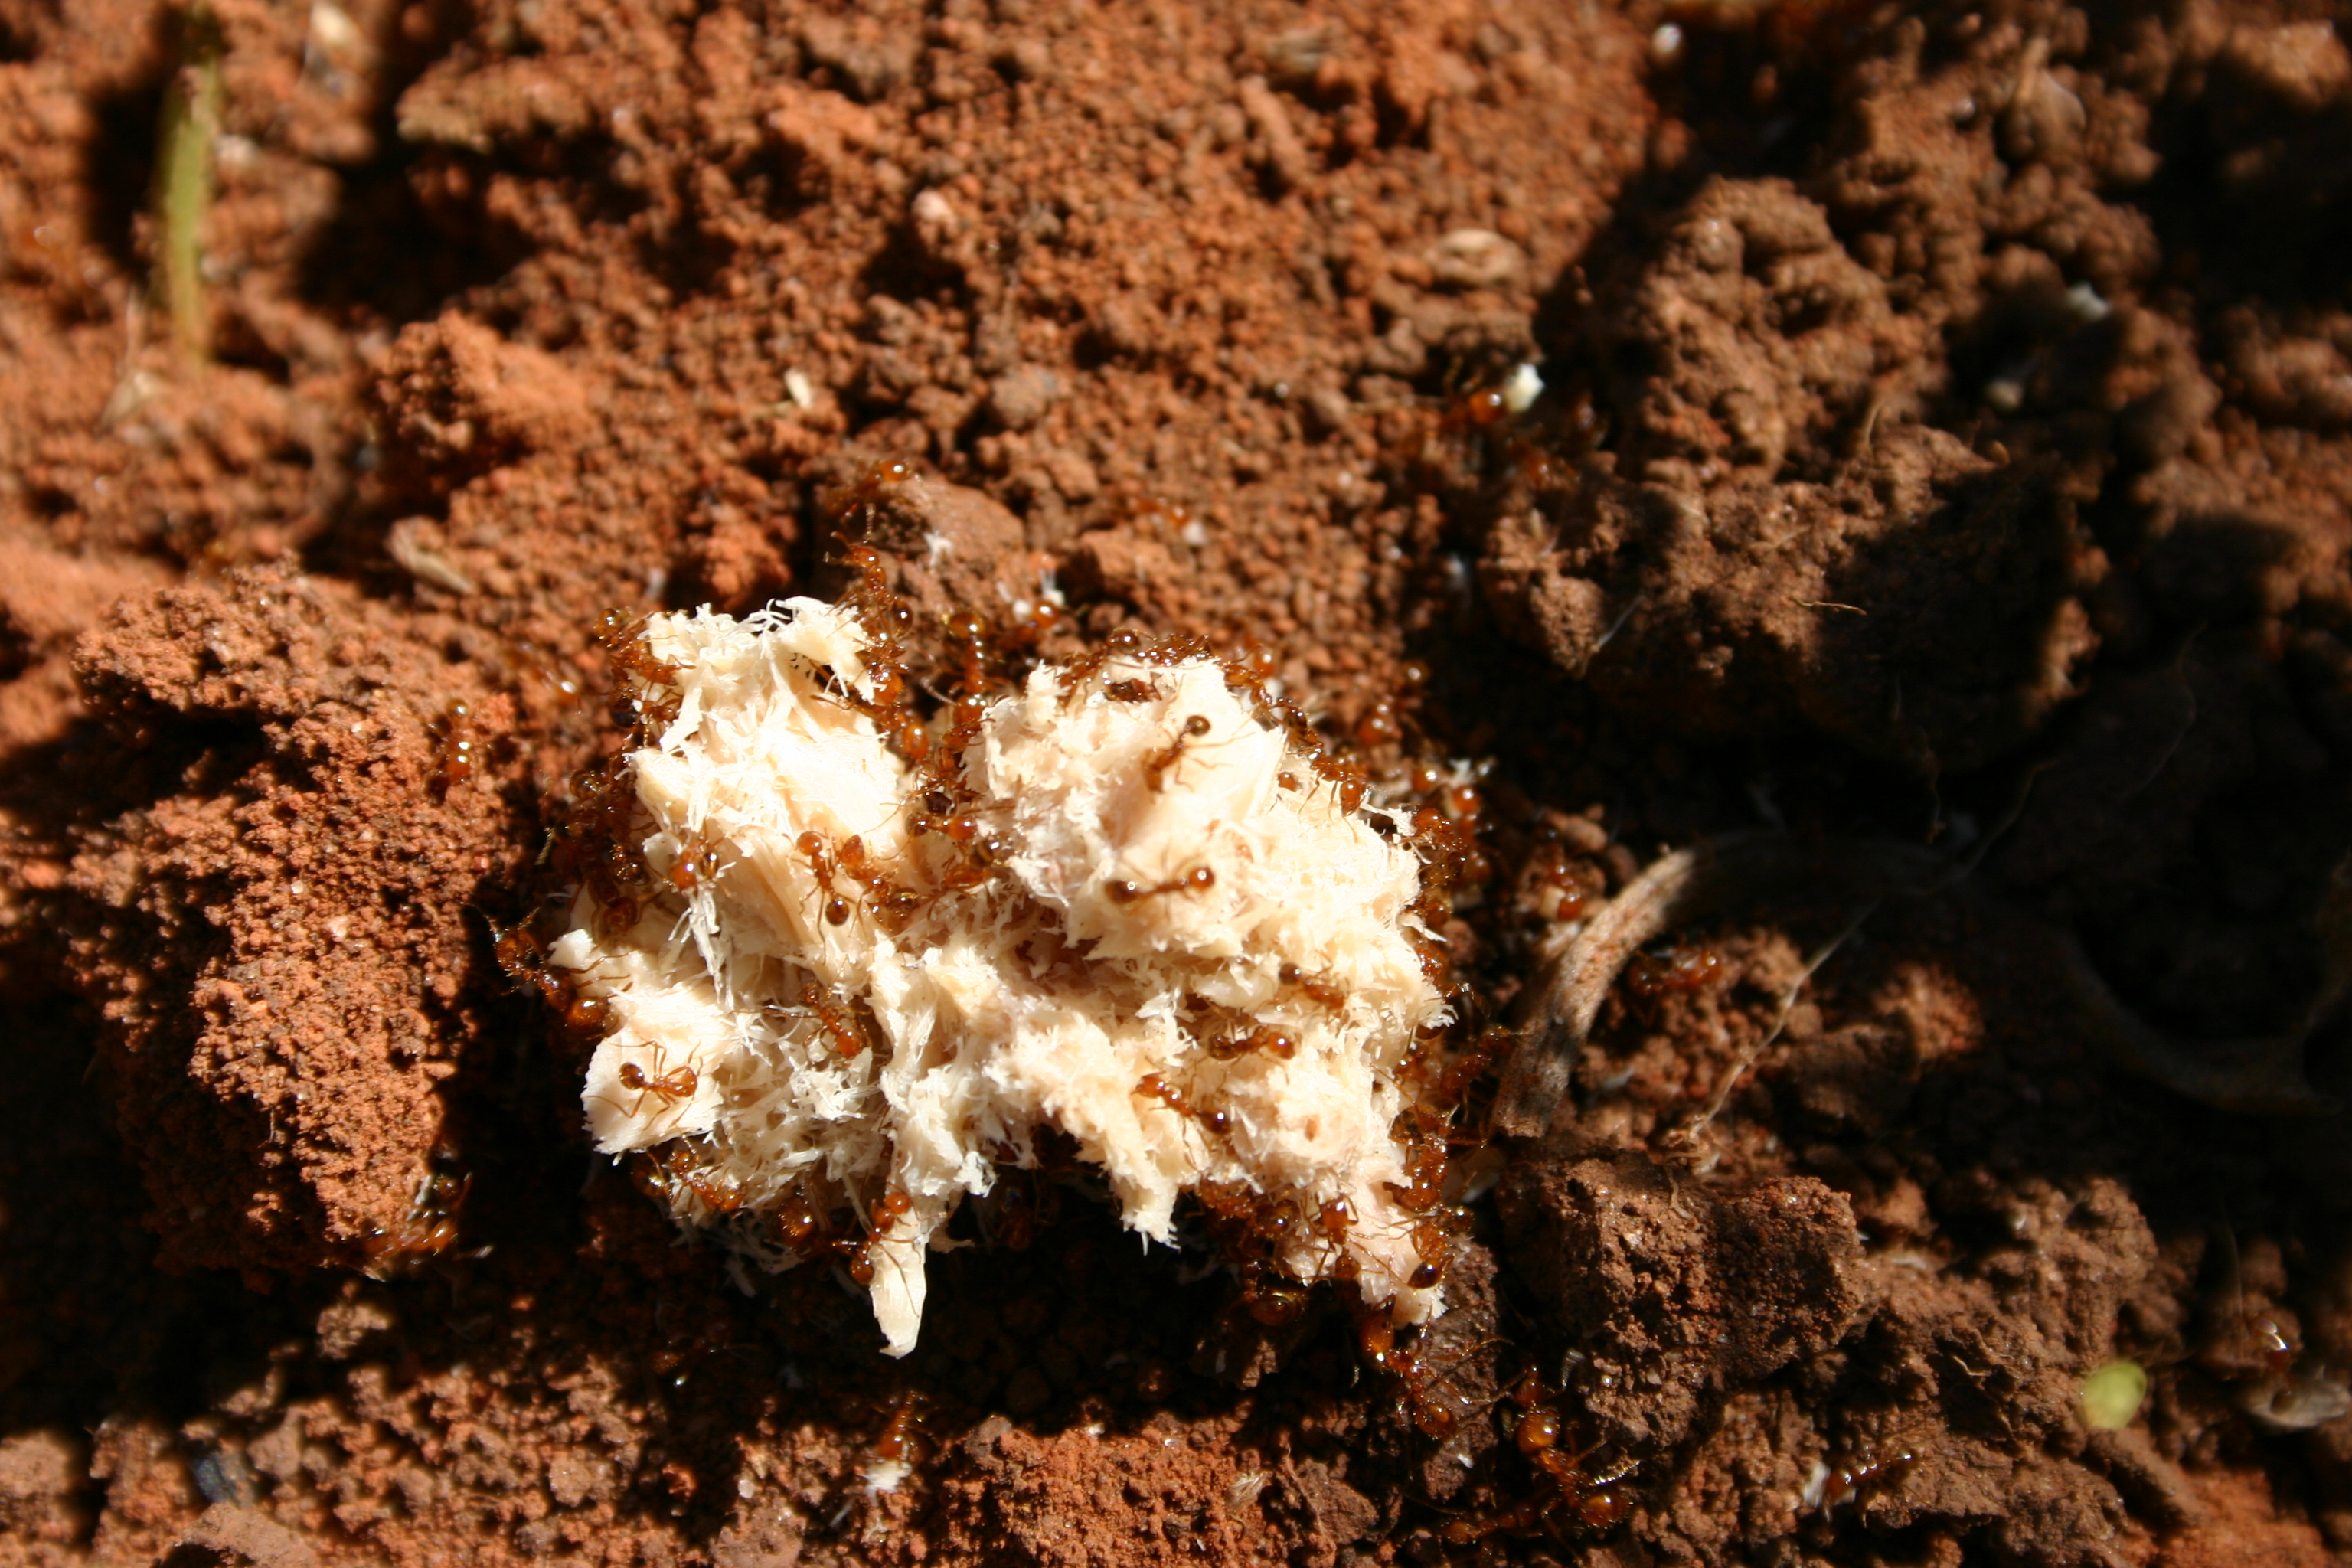Solenopsis_geminata: (1482, 1326, 1661, 1566), (448, 885, 637, 1057), (1778, 1382, 1948, 1561), (1347, 1286, 1480, 1468), (395, 660, 521, 831), (1599, 906, 1752, 1048), (1087, 817, 1242, 950), (751, 943, 889, 1092), (828, 1153, 945, 1319), (570, 581, 705, 702), (600, 1018, 717, 1150), (1512, 793, 1612, 943), (1116, 1050, 1249, 1162), (850, 1360, 955, 1501), (1125, 682, 1237, 812), (1346, 630, 1451, 749), (824, 518, 926, 635), (1302, 1165, 1388, 1300), (822, 422, 931, 527), (1181, 992, 1309, 1080), (1262, 924, 1365, 1029), (773, 805, 854, 938), (1298, 740, 1386, 850), (931, 584, 1004, 712), (1045, 600, 1148, 686), (843, 817, 920, 926), (859, 660, 936, 765)
